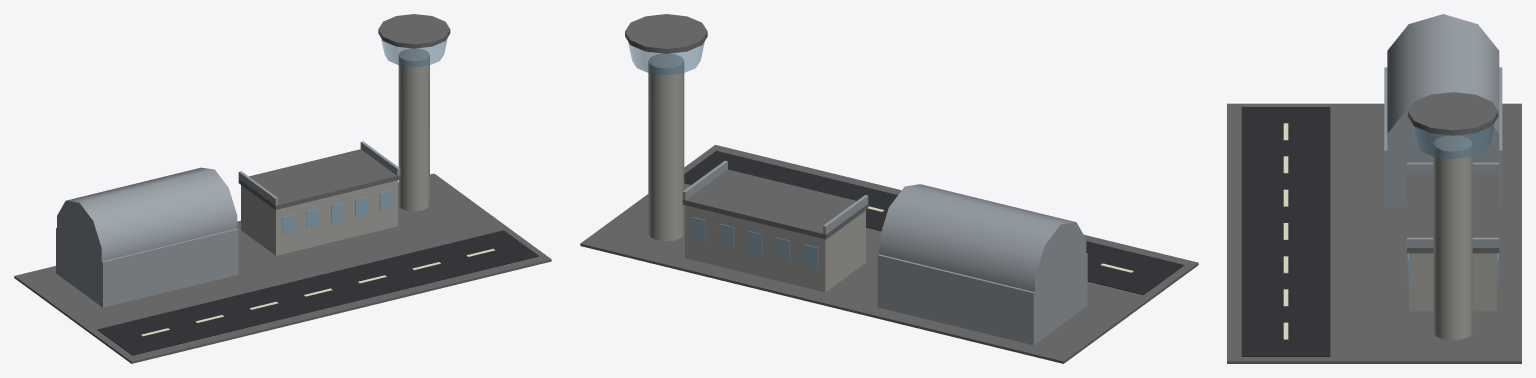
Rendered from bld_special_airport_a06.glb.
The picture shows the model from 3 angles, left to right: view 1: azimuth 30°, elevation 25°; view 2: azimuth 150°, elevation 25°; view 3: azimuth 270°, elevation 25°; orthographic projection. The views are drawn at different scales.
Parts seen in each view (by area): view 1: body; view 2: body; view 3: body.
Boxes of the visible parts, bbox=[...] form: body: bbox=[14, 14, 551, 363]; body: bbox=[580, 14, 1198, 363]; body: bbox=[1227, 14, 1521, 363].
Size of what is drawn, in the model's own units: 31 by 12.55 by 15.
